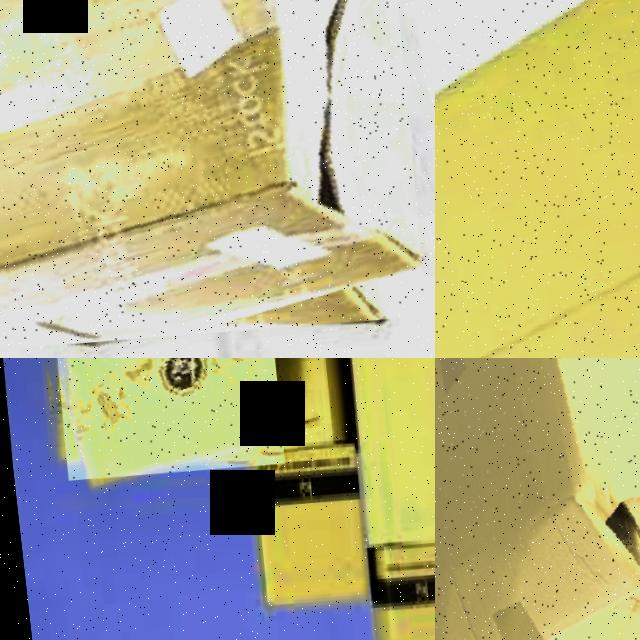Kardus kondisi bagus: (436, 1, 640, 359), (53, 359, 271, 481), (239, 448, 358, 610), (346, 359, 436, 557), (355, 554, 436, 640)
Kardus kondisi rusak: (1, 1, 411, 348), (436, 359, 640, 640)
